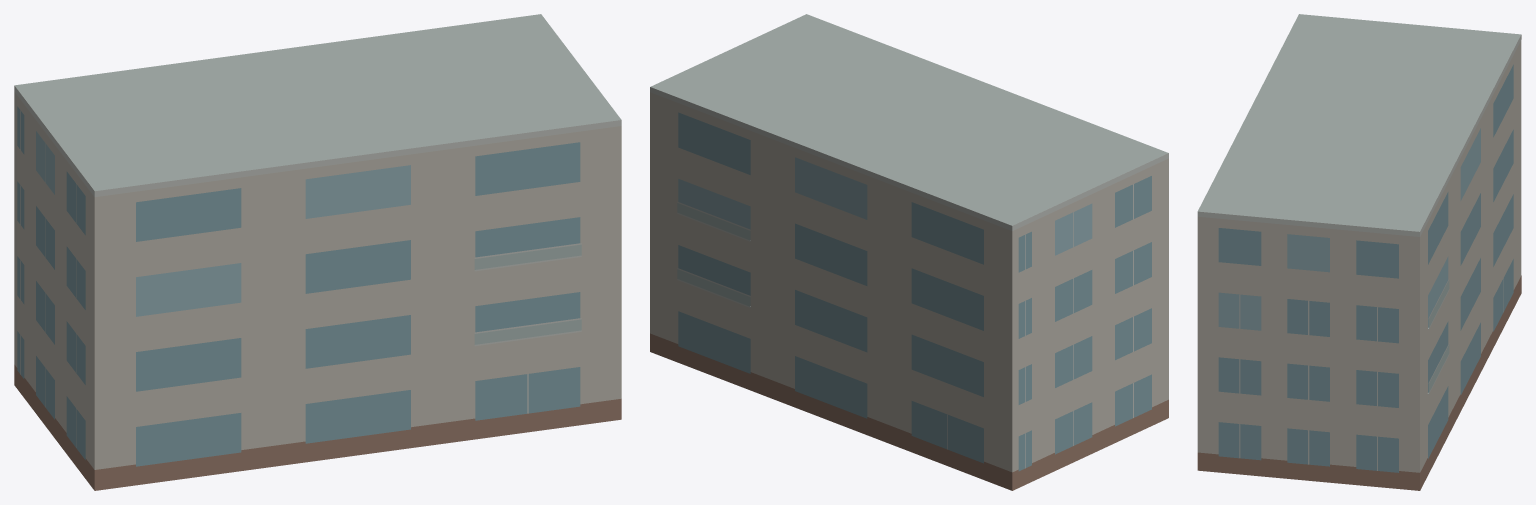
The model's file is residential-b5045065-5b5d-48d2-9823-0f1a56c171c2.glb.
3 renders of one model, left to right at view 1: azimuth 30°, elevation 25°; view 2: azimuth 150°, elevation 25°; view 3: azimuth 270°, elevation 25°, orthographic. The views are drawn at different scales.
Visible parts, largest first — view 1: residential-b5045065-5b5d-48d2-9823-0f1a56c171c2.tmp; view 2: residential-b5045065-5b5d-48d2-9823-0f1a56c171c2.tmp; view 3: residential-b5045065-5b5d-48d2-9823-0f1a56c171c2.tmp.
Part boxes in pixels (left/top/right/bottom): residential-b5045065-5b5d-48d2-9823-0f1a56c171c2.tmp: left=14, top=14, right=621, bottom=490; residential-b5045065-5b5d-48d2-9823-0f1a56c171c2.tmp: left=650, top=14, right=1168, bottom=490; residential-b5045065-5b5d-48d2-9823-0f1a56c171c2.tmp: left=1197, top=14, right=1521, bottom=490.
Bounding box in the file's own units: 22.02 × 12.2 × 13.84.
